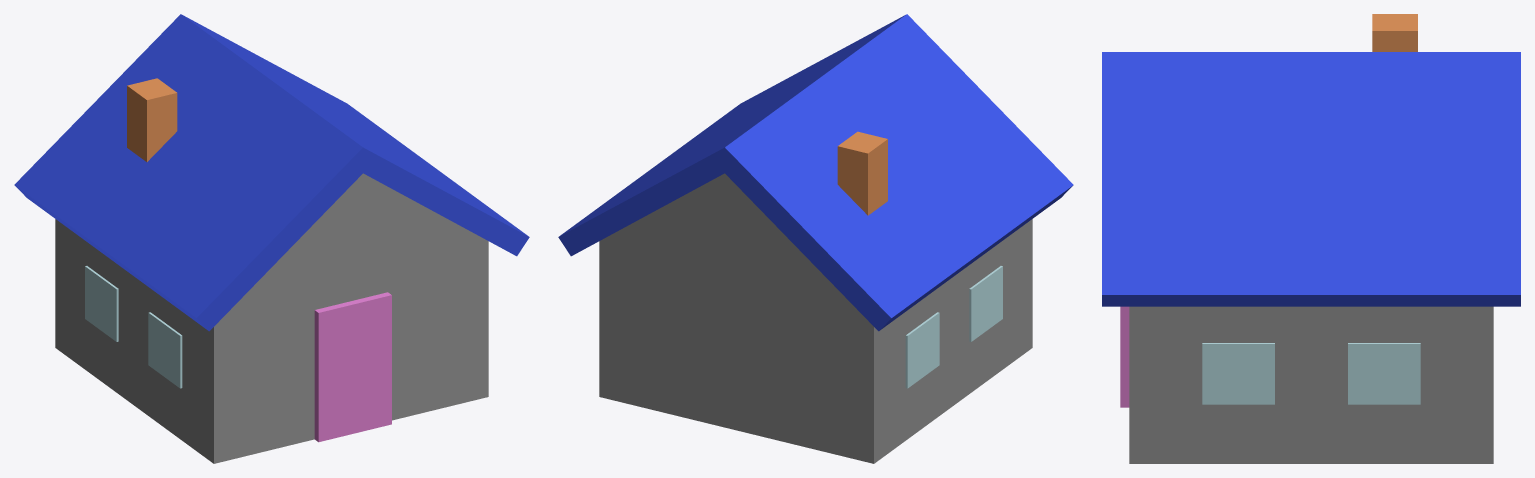
The model's file is House.fbx.
The picture shows the model from 3 angles, left to right: view 1: azimuth 30°, elevation 25°; view 2: azimuth 150°, elevation 25°; view 3: azimuth 270°, elevation 25°; orthographic projection. The views are drawn at different scales.
Parts seen in each view (by area): view 1: House; view 2: House; view 3: House.
Boxes of the visible parts, x1,y1,x2,y2 form: House: (14,14,529,463); House: (558,14,1073,463); House: (1102,14,1520,463).
Bounding box in the file's own units: 243 × 203 × 230.
